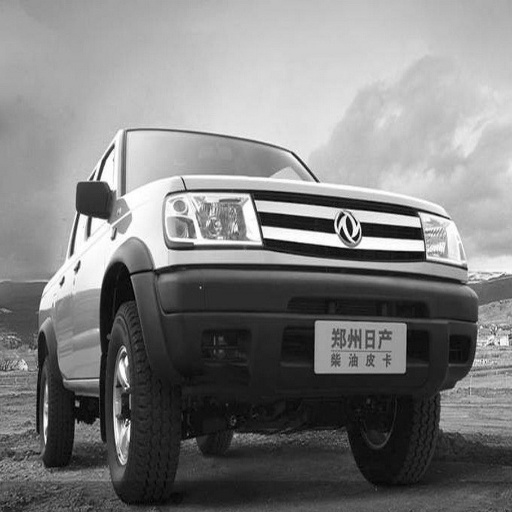front_left_light: (426, 216, 463, 264)
front_right_door: (67, 195, 107, 377)
front_right_light: (164, 191, 261, 249)
